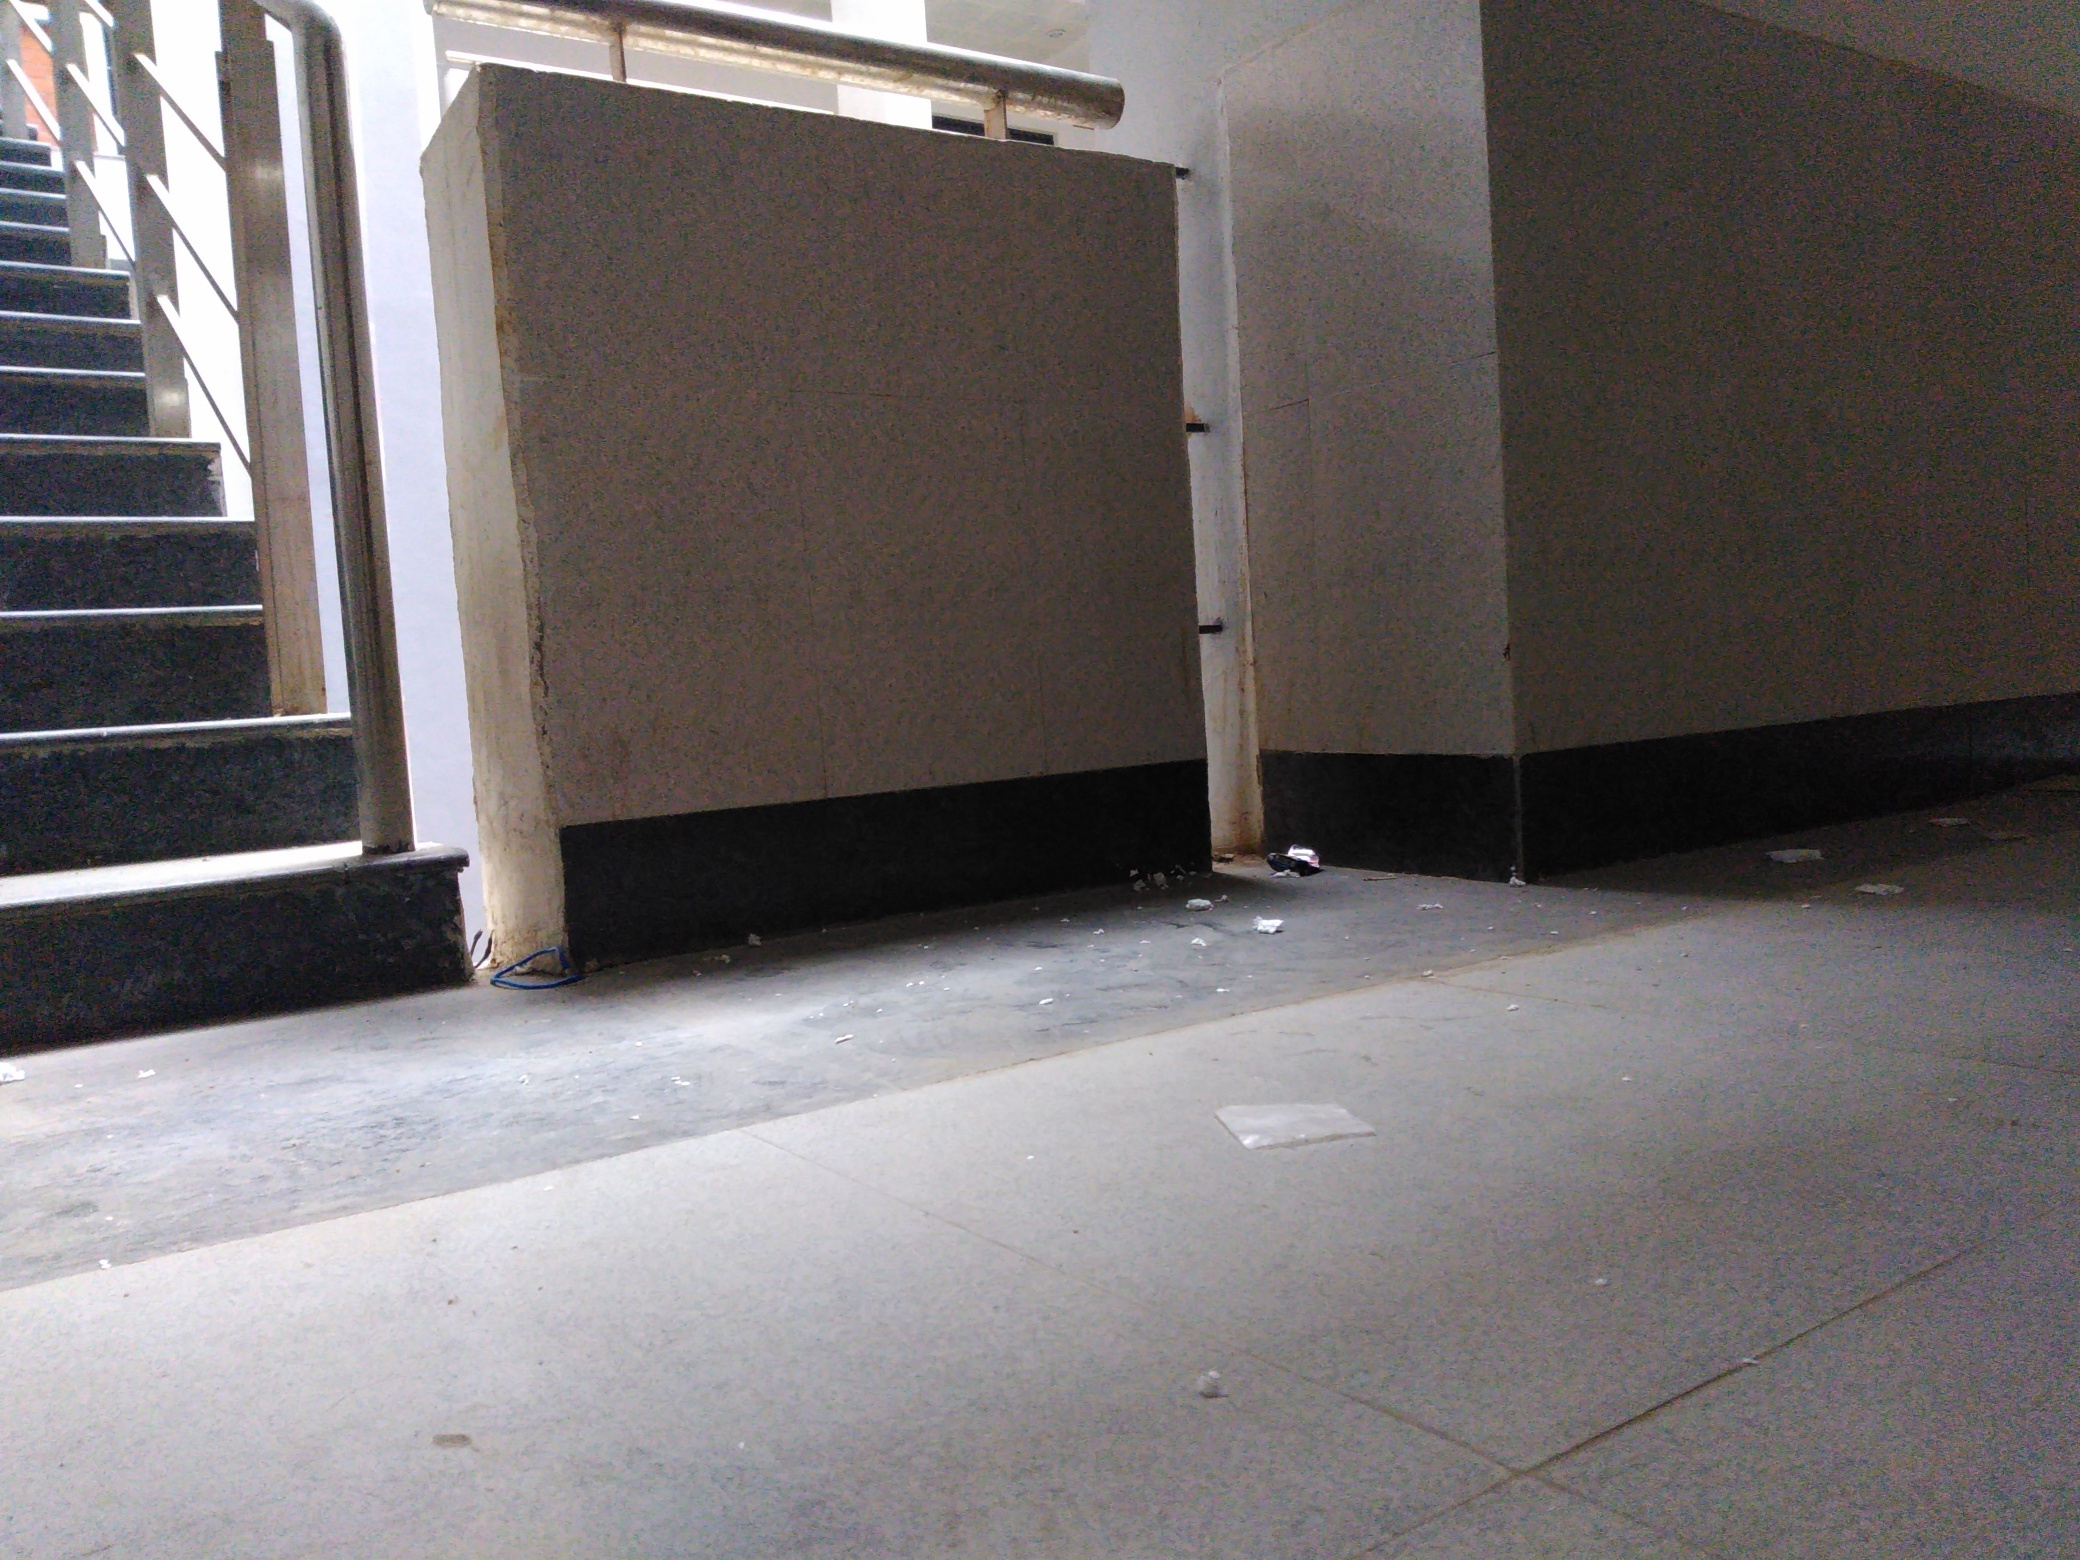stairs_up: (5, 221, 442, 1042)
